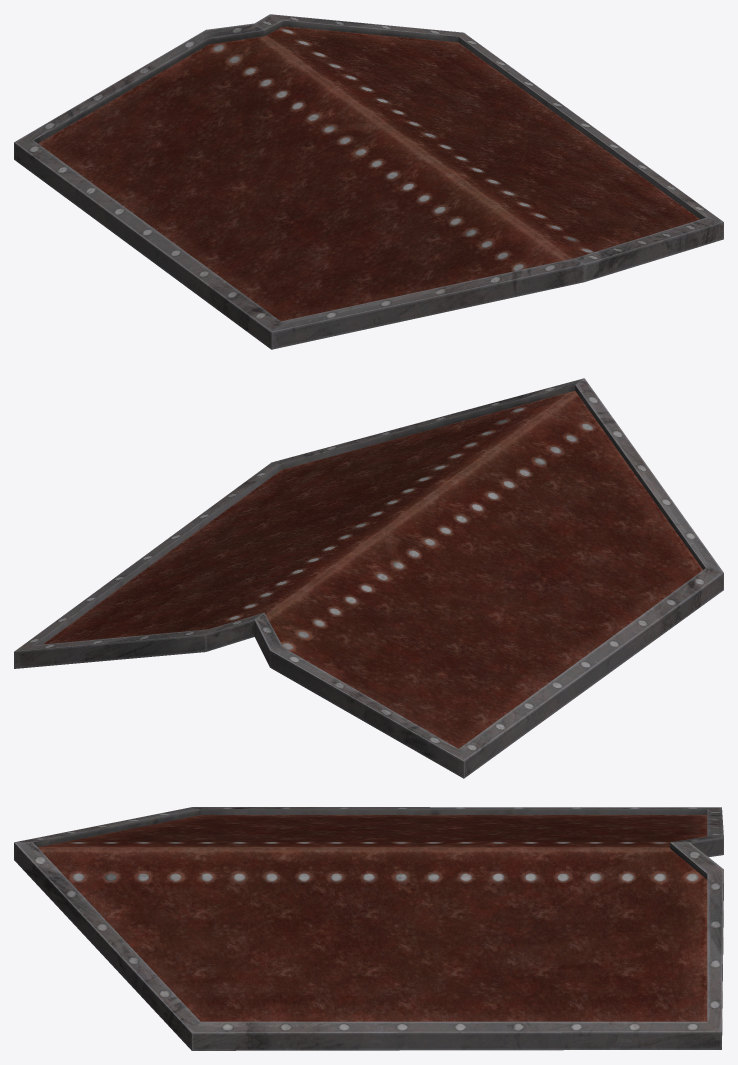
Rendered from sm_iron_shield_a.fbx.
The picture shows the model from 3 angles, top to bottom: view 1: azimuth 30°, elevation 25°; view 2: azimuth 150°, elevation 25°; view 3: azimuth 270°, elevation 25°; orthographic projection. The views are drawn at different scales.
Parts seen in each view (by area): view 1: sm_iron_shield_a; view 2: sm_iron_shield_a; view 3: sm_iron_shield_a.
Part boxes in pixels (<box>): sm_iron_shield_a: <box>14,14,723,349</box>; sm_iron_shield_a: <box>14,378,723,778</box>; sm_iron_shield_a: <box>14,807,723,1050</box>.
Size of the model in its own units: 0.6176 by 0.8194 by 0.1216.
Materials: 1 (1 with a texture image).
